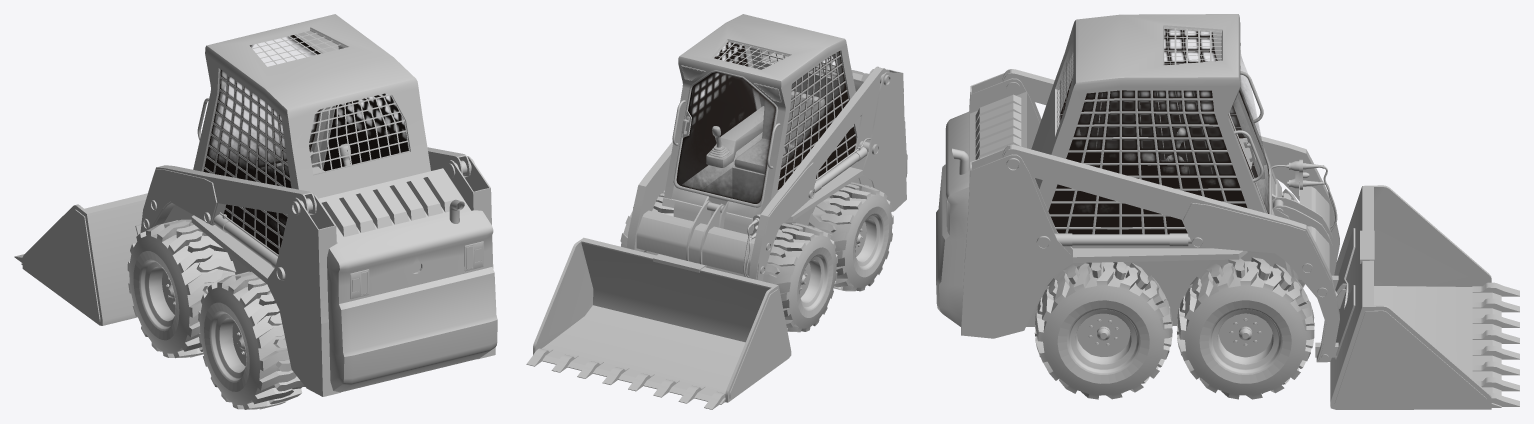
3 views of the same model, side by side, from view 1: azimuth 30°, elevation 25°; view 2: azimuth 150°, elevation 25°; view 3: azimuth 270°, elevation 25° (orthographic). The views are drawn at different scales.
Visible parts, largest first — view 1: Back_Cover, Cage, Wheel_002, Bucket001, Left_Body_Rear, Wheel_001, Arms_And_Bucket, Window_Cages, Engine_Guard, Glass_Side_001, Glass_Side_002, Windsheild (+4 smaller); view 2: Bucket001, Cage, Arms_And_Bucket, Wheel_002, Left_Body_Rear, Wheel_001, Windsheild, Brace_R, Glass_Side_002, Glass_Side_001, Bottom_Body, Window_Cages (+7 smaller); view 3: Bucket001, Cage, Right_Body_Rear, Arms_And_Bucket, Wheel_003, Wheel_004, Glass_Side_002, Window_Cages, Back_Cover, Glass_Side_001, Bottom_Body, Engine_Guard (+7 smaller).
Boxes of the visible parts, bbox=[...] form: Back_Cover: bbox=[327, 210, 497, 392]; Cage: bbox=[193, 14, 430, 243]; Wheel_002: bbox=[198, 271, 305, 409]; Bucket001: bbox=[14, 193, 147, 325]; Left_Body_Rear: bbox=[191, 193, 340, 396]; Wheel_001: bbox=[127, 219, 235, 358]; Arms_And_Bucket: bbox=[140, 129, 474, 232]; Window_Cages: bbox=[203, 29, 409, 252]; Engine_Guard: bbox=[318, 168, 471, 243]; Glass_Side_001: bbox=[203, 70, 291, 254]; Glass_Side_002: bbox=[323, 93, 408, 171]; Windsheild: bbox=[211, 35, 320, 166]; Bucket001: bbox=[526, 237, 791, 409]; Cage: bbox=[664, 14, 860, 214]; Arms_And_Bucket: bbox=[627, 51, 890, 281]; Wheel_002: bbox=[808, 182, 893, 291]; Left_Body_Rear: bbox=[786, 69, 906, 220]; Wheel_001: bbox=[763, 222, 837, 332]; Windsheild: bbox=[676, 72, 775, 203]; Brace_R: bbox=[636, 200, 755, 275]; Glass_Side_002: bbox=[679, 42, 756, 183]; Glass_Side_001: bbox=[777, 51, 856, 189]; Bottom_Body: bbox=[662, 132, 859, 277]; Window_Cages: bbox=[696, 40, 856, 191]; Bucket001: bbox=[1330, 185, 1519, 409]; Cage: bbox=[1031, 14, 1276, 212]; Right_Body_Rear: bbox=[961, 149, 1247, 338]; Arms_And_Bucket: bbox=[1002, 69, 1339, 362]; Wheel_003: bbox=[1177, 257, 1314, 399]; Wheel_004: bbox=[1034, 262, 1172, 399]; Glass_Side_002: bbox=[1048, 90, 1247, 234]; Window_Cages: bbox=[1050, 27, 1255, 236]; Back_Cover: bbox=[936, 111, 969, 326]; Glass_Side_001: bbox=[1059, 29, 1257, 177]; Bottom_Body: bbox=[1026, 179, 1298, 326]; Engine_Guard: bbox=[970, 91, 1026, 167].
Bounding box in the file's own units: 1728 × 2018 × 3490.
